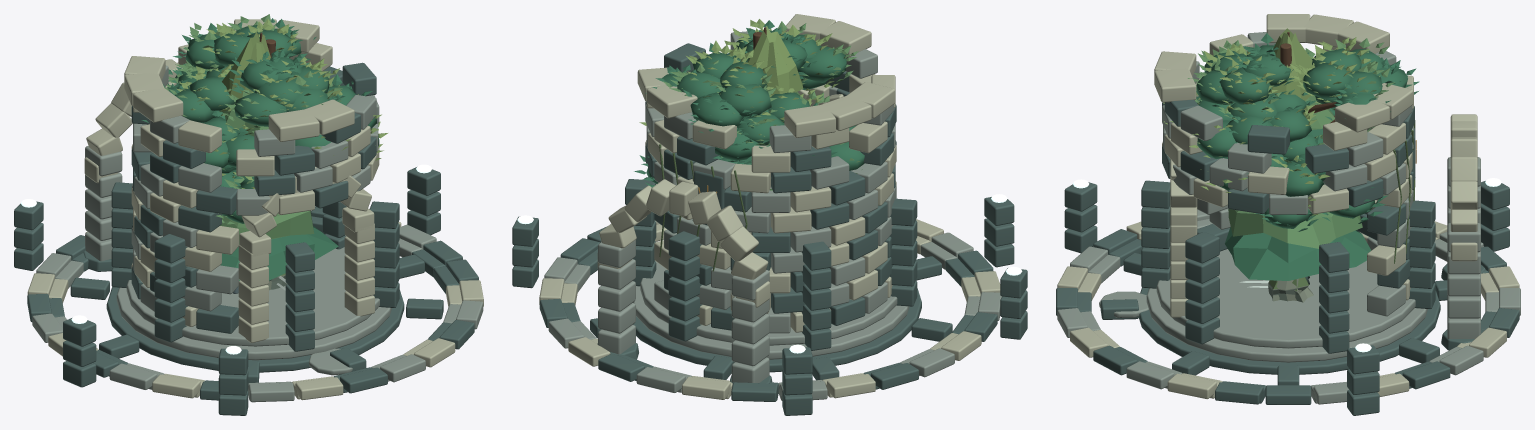
Rendered from emberwild-world-base-r5.glb.
3 renders of one model, left to right at view 1: azimuth 30°, elevation 25°; view 2: azimuth 150°, elevation 25°; view 3: azimuth 270°, elevation 25°, orthographic. The views are drawn at different scales.
Parts seen in each view (by area): view 1: watchtower_stoneDark, watchtower_stoneLight, watchtower_stone, moonSanctum_stoneDark, moonSanctum_stone, alderTall_leaf, moonSanctum_stoneLight, alder_leaf, pine_leaf, pine_leafMid, alderTall_leafLight, alderTall_leafMid (+4 smaller); view 2: watchtower_stoneDark, watchtower_stoneLight, watchtower_stone, moonSanctum_stoneDark, moonSanctum_stone, moonSanctum_stoneLight, alderTall_leaf, alder_leaf, pine_leafLight, alderTall_leafLight, alder_leafMid, alder_leafLight (+3 smaller); view 3: watchtower_stoneDark, watchtower_stone, watchtower_stoneLight, moonSanctum_stoneDark, alderTall_leaf, moonSanctum_stone, moonSanctum_stoneLight, alder_leaf, pine_leaf, pine_leafMid, alderTall_leafLight, pine_leafLight (+5 smaller).
Boxes of the visible parts, box(x1,y1,x2,y2) form: watchtower_stoneDark: box(70, 62, 443, 383); watchtower_stoneLight: box(124, 19, 379, 342); watchtower_stone: box(116, 65, 391, 360); moonSanctum_stoneDark: box(14, 167, 478, 415); moonSanctum_stone: box(32, 146, 483, 402); alderTall_leaf: box(141, 22, 376, 223); moonSanctum_stoneLight: box(27, 59, 483, 400); alder_leaf: box(168, 18, 379, 188); pine_leaf: box(220, 226, 338, 280); pine_leafMid: box(220, 102, 314, 244); alderTall_leafLight: box(176, 23, 381, 188); alderTall_leafMid: box(149, 23, 342, 224); watchtower_stoneDark: box(590, 43, 952, 380); watchtower_stoneLight: box(637, 14, 896, 332); watchtower_stone: box(633, 31, 909, 359); moonSanctum_stoneDark: box(512, 197, 1027, 415); moonSanctum_stone: box(544, 232, 1001, 400); moonSanctum_stoneLight: box(539, 179, 1000, 399); alderTall_leaf: box(634, 20, 864, 187); alder_leaf: box(645, 34, 846, 163); pine_leafLight: box(747, 26, 803, 96); alderTall_leafLight: box(639, 19, 823, 125); alder_leafMid: box(662, 44, 858, 190); alder_leafLight: box(686, 25, 838, 97); watchtower_stoneDark: box(1100, 99, 1447, 385); watchtower_stone: box(1146, 32, 1427, 362); watchtower_stoneLight: box(1154, 14, 1413, 317); moonSanctum_stoneDark: box(1056, 181, 1519, 415); alderTall_leaf: box(1196, 43, 1419, 223); moonSanctum_stone: box(1057, 157, 1520, 404); moonSanctum_stoneLight: box(1057, 114, 1519, 399); alder_leaf: box(1196, 33, 1390, 231); pine_leaf: box(1225, 129, 1371, 280); pine_leafMid: box(1228, 95, 1362, 248); alderTall_leafLight: box(1189, 37, 1371, 206); pine_leafLight: box(1270, 28, 1312, 100).
Size of the model in its own units: 15.24 by 9.27 by 13.75.
